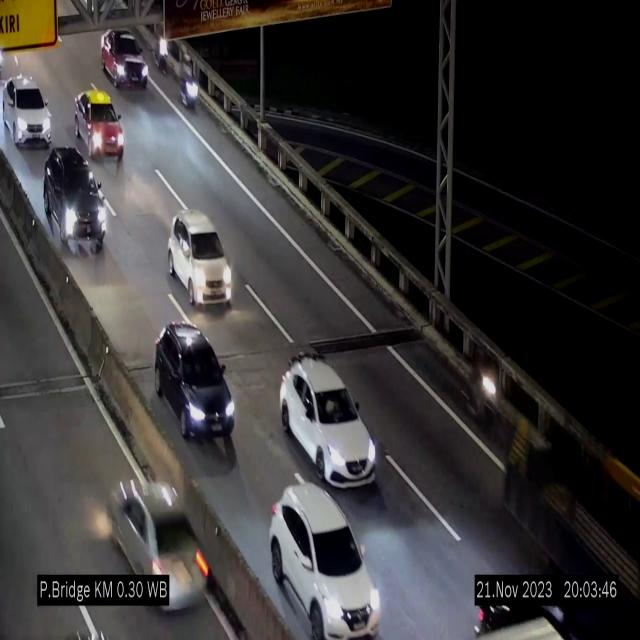Car: (101, 446, 219, 628), (269, 485, 379, 639), (280, 356, 376, 486), (155, 322, 235, 448), (41, 144, 108, 257), (168, 212, 233, 307), (75, 90, 124, 168), (2, 76, 51, 146), (102, 30, 148, 88)
Motorcycle: (466, 341, 498, 432), (178, 48, 198, 112), (155, 19, 170, 78)
Truck: (512, 408, 640, 640)
